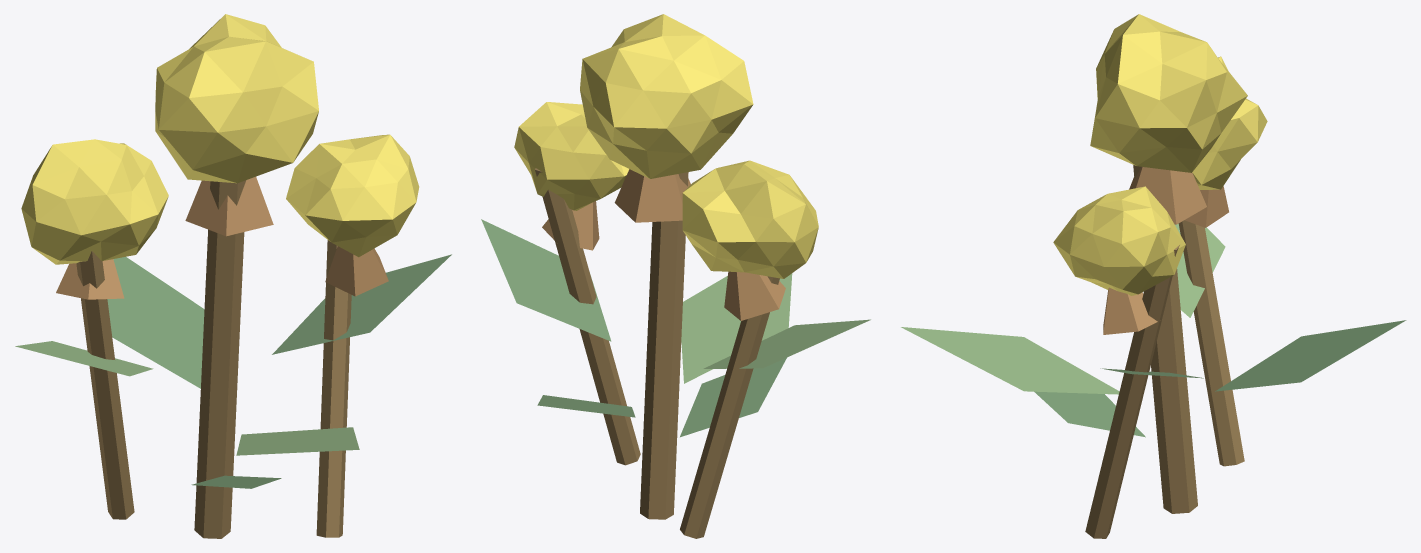
Rendered from t7_fiber_full.glb.
3 views of the same model, side by side, from view 1: azimuth 30°, elevation 25°; view 2: azimuth 150°, elevation 25°; view 3: azimuth 270°, elevation 25° (orthographic). The views are drawn at different scales.
Visible parts, largest first — view 1: CenterCottonBoll, LeftCottonBoll, CenterStem, RightCottonBoll, BackLeaf, LeftStem, RightStem, RightLeaf, CenterHusk, FrontLeaf, RightHusk, LeftLeaf (+2 smaller); view 2: CenterCottonBoll, LeftCottonBoll, CenterStem, RightCottonBoll, RightStem, LeftStem, RightLeaf, FrontLeaf, CenterHusk, LowLeaf, LeftLeaf, LeftHusk (+2 smaller); view 3: CenterCottonBoll, RightCottonBoll, CenterStem, FrontLeaf, RightStem, LeftStem, BackLeaf, LeftCottonBoll, CenterHusk, LowLeaf, RightHusk, LeftLeaf (+1 smaller).
Boxes of the visible parts, <box> form: CenterCottonBoll: <box>155,14,318,183</box>; LeftCottonBoll: <box>21,139,168,264</box>; CenterStem: <box>194,180,245,538</box>; RightCottonBoll: <box>286,134,419,257</box>; BackLeaf: <box>107,257,204,388</box>; LeftStem: <box>76,251,134,519</box>; RightStem: <box>316,240,351,537</box>; RightLeaf: <box>272,254,451,354</box>; CenterHusk: <box>185,176,273,236</box>; FrontLeaf: <box>236,427,359,455</box>; RightHusk: <box>325,246,388,296</box>; LeftLeaf: <box>15,341,153,376</box>; CenterCottonBoll: <box>580,14,753,178</box>; LeftCottonBoll: <box>682,160,818,278</box>; CenterStem: <box>640,172,688,519</box>; RightCottonBoll: <box>514,102,629,210</box>; RightStem: <box>535,168,640,465</box>; LeftStem: <box>680,276,779,538</box>; RightLeaf: <box>481,219,611,341</box>; FrontLeaf: <box>681,273,792,383</box>; CenterHusk: <box>614,169,690,222</box>; LowLeaf: <box>680,357,786,437</box>; LeftLeaf: <box>703,319,870,368</box>; LeftHusk: <box>724,271,785,320</box>; CenterCottonBoll: <box>1090,14,1247,172</box>; RightCottonBoll: <box>1053,186,1185,295</box>; CenterStem: <box>1133,165,1197,513</box>; FrontLeaf: <box>901,327,1119,394</box>; RightStem: <box>1085,245,1179,538</box>; LeftStem: <box>1178,220,1244,466</box>; BackLeaf: <box>1215,320,1406,391</box>; LeftCottonBoll: <box>1192,56,1267,189</box>; CenterHusk: <box>1129,167,1206,224</box>; LowLeaf: <box>1034,391,1145,437</box>; RightHusk: <box>1103,287,1157,334</box>; LeftLeaf: <box>1175,223,1225,317</box>.
Size of the model in its own units: 0.9519 by 1.08 by 1.02.
